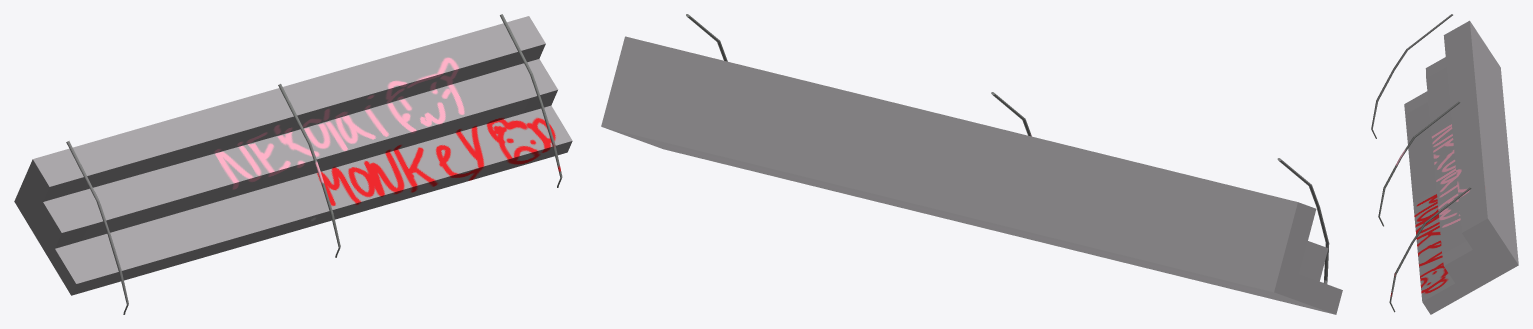
The model's file is bleachers.fbx.
3 renders of one model, left to right at view 1: azimuth 30°, elevation 25°; view 2: azimuth 150°, elevation 25°; view 3: azimuth 270°, elevation 25°, orthographic. The views are drawn at different scales.
Visible parts, largest first — view 1: node_id7, node_id6, node_id5, node_id4; view 2: node_id7, node_id4; view 3: node_id7, node_id6, node_id5, node_id4.
Boxes of the visible parts, x1,y1,x2,y2 form: node_id7: (14, 16, 572, 295); node_id6: (278, 84, 340, 257); node_id5: (500, 14, 562, 187); node_id4: (66, 141, 128, 314); node_id7: (601, 36, 1342, 314); node_id4: (1277, 158, 1329, 283); node_id7: (1404, 20, 1518, 314); node_id6: (1378, 101, 1460, 226); node_id5: (1389, 187, 1471, 312); node_id4: (1371, 14, 1452, 138).
Size of the model in its own units: 0.516 by 0.1482 by 0.1537.
4 materials, 3 textured.
